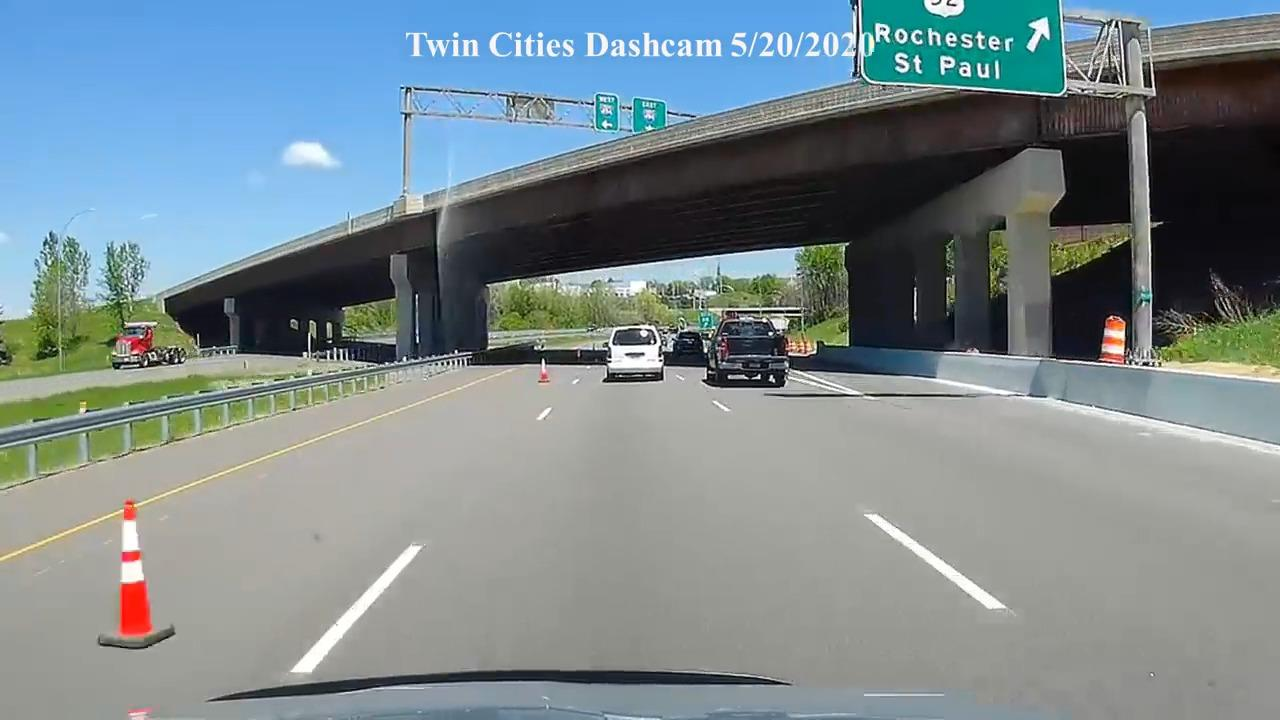car: (705, 317, 790, 388), (602, 325, 665, 382), (672, 331, 704, 359), (35, 346, 60, 360)
traffic cone: (97, 499, 176, 650), (1099, 316, 1127, 366), (537, 357, 553, 384)
